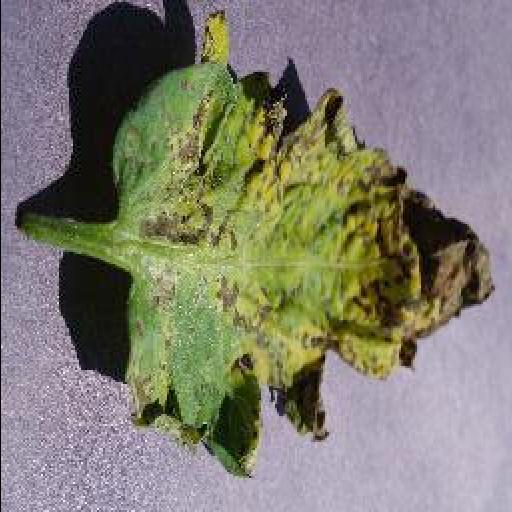disease_tomato: (108, 15, 498, 479)
